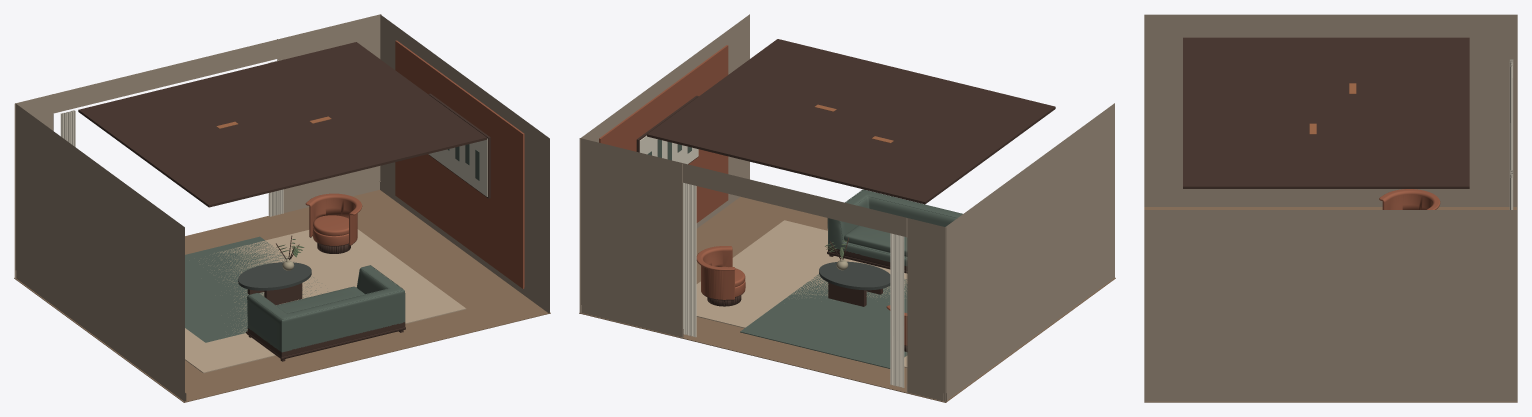
File: great-1.glb
3 renders of one model, left to right at view 1: azimuth 30°, elevation 25°; view 2: azimuth 150°, elevation 25°; view 3: azimuth 270°, elevation 25°, orthographic. The views are drawn at different scales.
Parts seen in each view (by area): view 1: DESIGN | great removable wall finish, DESIGN | Social ceiling field, DESIGN | great floor finish, DESIGN | Clay conversation wall, DESIGN | Great room primary ground, DESIGN | Great room sofa facing conversation, DESIGN | Secondary occupied textile field, DESIGN | Required Bellustar swivel chair one, DESIGN | Textile artwork.001, DESIGN | Great room conversation table top, DESIGN | Great room conversation table trestle, DESIGN | Quiet artwork frame.001 (+1 smaller); view 2: DESIGN | great removable wall finish, DESIGN | Social ceiling field, DESIGN | great floor finish, DESIGN | Secondary occupied textile field, DESIGN | Great room primary ground, DESIGN | Clay conversation wall, DESIGN | Great room sofa facing conversation, DESIGN | Great room soft window edge, DESIGN | Required Bellustar swivel chair one, DESIGN | Great room soft window edge.001, DESIGN | Great room conversation table top, DESIGN | Textile artwork.001 (+1 smaller); view 3: DESIGN | great removable wall finish, DESIGN | Social ceiling field, DESIGN | great floor finish, DESIGN | Required Bellustar swivel chair two, DESIGN | Great room soft window edge.
Part boxes in pixels (left/top/right/bottom): DESIGN | great removable wall finish: left=14, top=14, right=549, bottom=401; DESIGN | Social ceiling field: left=78, top=42, right=486, bottom=207; DESIGN | great floor finish: left=14, top=190, right=550, bottom=402; DESIGN | Clay conversation wall: left=395, top=40, right=524, bottom=288; DESIGN | Great room primary ground: left=185, top=229, right=466, bottom=373; DESIGN | Great room sofa facing conversation: left=246, top=265, right=405, bottom=361; DESIGN | Secondary occupied textile field: left=185, top=236, right=327, bottom=342; DESIGN | Required Bellustar swivel chair one: left=305, top=193, right=362, bottom=253; DESIGN | Textile artwork.001: left=428, top=138, right=487, bottom=196; DESIGN | Great room conversation table top: left=238, top=262, right=311, bottom=290; DESIGN | Great room conversation table trestle: left=264, top=283, right=302, bottom=304; DESIGN | Quiet artwork frame.001: left=428, top=93, right=490, bottom=198; DESIGN | great removable wall finish: left=579, top=14, right=1114, bottom=401; DESIGN | Social ceiling field: left=647, top=39, right=1055, bottom=204; DESIGN | great floor finish: left=579, top=196, right=1115, bottom=402; DESIGN | Secondary occupied textile field: left=740, top=274, right=907, bottom=368; DESIGN | Great room primary ground: left=696, top=220, right=907, bottom=367; DESIGN | Clay conversation wall: left=599, top=45, right=728, bottom=222; DESIGN | Great room sofa facing conversation: left=827, top=189, right=962, bottom=273; DESIGN | Great room soft window edge: left=890, top=233, right=904, bottom=387; DESIGN | Required Bellustar swivel chair one: left=696, top=246, right=745, bottom=306; DESIGN | Great room soft window edge.001: left=683, top=182, right=696, bottom=337; DESIGN | Great room conversation table top: left=819, top=261, right=890, bottom=290; DESIGN | Textile artwork.001: left=639, top=135, right=698, bottom=164; DESIGN | great removable wall finish: left=1144, top=14, right=1517, bottom=401; DESIGN | Social ceiling field: left=1183, top=37, right=1469, bottom=188; DESIGN | great floor finish: left=1144, top=207, right=1517, bottom=402; DESIGN | Required Bellustar swivel chair two: left=1379, top=189, right=1440, bottom=209; DESIGN | Great room soft window edge: left=1509, top=59, right=1513, bottom=170.
Size of the model in its own units: 6 by 2.74 by 4.82.
